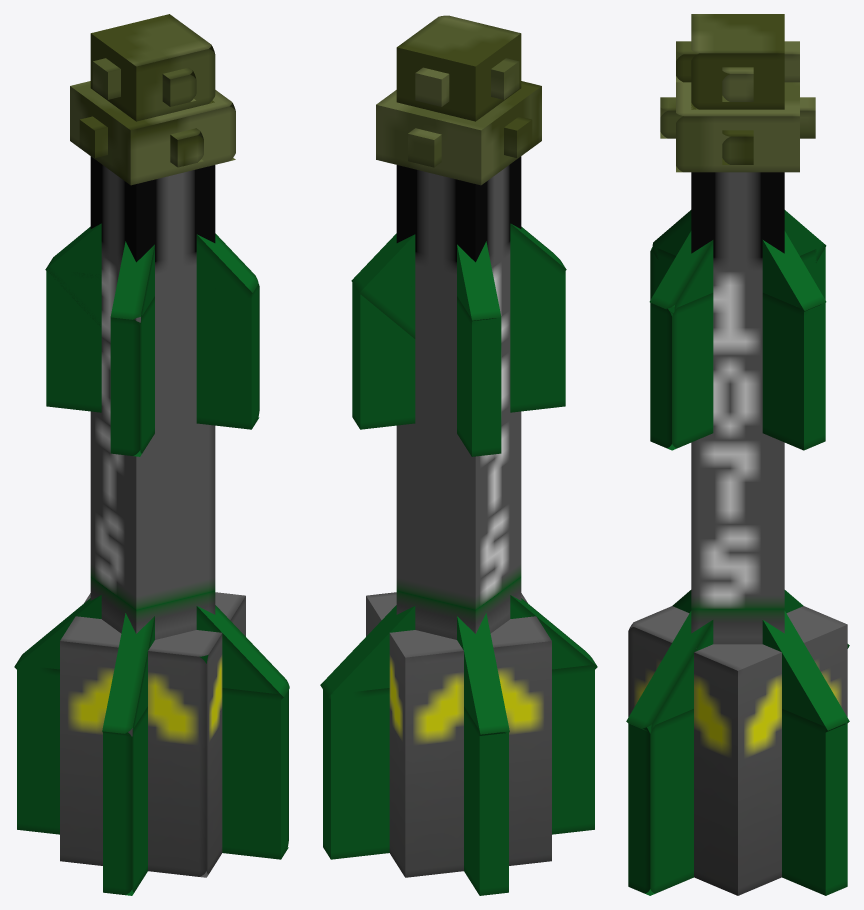
Rendered from missile_shrapnel.obj.
The picture shows the model from 3 angles, left to right: view 1: azimuth 30°, elevation 25°; view 2: azimuth 150°, elevation 25°; view 3: azimuth 270°, elevation 25°; orthographic projection. The views are drawn at different scales.
Parts seen in each view (by area): view 1: MAIN_MISSILE_MODULE, MOTOR_MODULE, WING_B_B_1, WING_T_B_2, WARHEAD_1, WARHEAD_2, WING_B_A_1, WING_T_B_1, WING_T_A_2, WING_B_B_2, WING_B_A_2, WING_T_A_1 (+4 smaller); view 2: MAIN_MISSILE_MODULE, MOTOR_MODULE, WING_B_A_1, WING_T_A_2, WARHEAD_1, WARHEAD_2, WING_T_A_1, WING_B_B_1, WING_T_B_2, WING_B_A_2, WING_B_B_2, WING_T_B_1 (+4 smaller); view 3: MAIN_MISSILE_MODULE, MOTOR_MODULE, WING_B_A_1, WING_B_B_1, WING_T_A_2, WING_T_B_2, WARHEAD_2, WARHEAD_1, WING_B_B_2, WING_B_A_2, WING_T_B_1, WING_T_A_1 (+4 smaller).
Boxes of the visible parts, x1=… form: MAIN_MISSILE_MODULE: x1=90, y1=156, x2=215, y2=639; MOTOR_MODULE: x1=60, y1=592, x2=245, y2=877; WING_B_B_1: x1=17, y1=664, x2=288, y2=859; WING_T_B_2: x1=46, y1=269, x2=259, y2=429; WARHEAD_1: x1=70, y1=81, x2=235, y2=185; WARHEAD_2: x1=90, y1=14, x2=215, y2=121; WING_B_A_1: x1=103, y1=706, x2=147, y2=895; WING_T_B_1: x1=45, y1=223, x2=258, y2=338; WING_T_A_2: x1=110, y1=296, x2=154, y2=456; WING_B_B_2: x1=14, y1=595, x2=289, y2=699; WING_B_A_2: x1=102, y1=613, x2=154, y2=735; WING_T_A_1: x1=110, y1=241, x2=154, y2=325; MAIN_MISSILE_MODULE: x1=396, y1=156, x2=521, y2=639; MOTOR_MODULE: x1=366, y1=592, x2=551, y2=877; WING_B_A_1: x1=323, y1=664, x2=594, y2=859; WING_T_A_2: x1=352, y1=271, x2=565, y2=429; WARHEAD_1: x1=376, y1=81, x2=541, y2=185; WARHEAD_2: x1=396, y1=15, x2=521, y2=121; WING_T_A_1: x1=351, y1=223, x2=566, y2=338; WING_B_B_1: x1=464, y1=706, x2=508, y2=895; WING_T_B_2: x1=457, y1=296, x2=501, y2=456; WING_B_A_2: x1=320, y1=595, x2=597, y2=699; WING_B_B_2: x1=457, y1=613, x2=509, y2=735; WING_T_B_1: x1=457, y1=241, x2=501, y2=321; MAIN_MISSILE_MODULE: x1=691, y1=172, x2=784, y2=644; MOTOR_MODULE: x1=628, y1=606, x2=847, y2=895; WING_B_A_1: x1=782, y1=709, x2=847, y2=895; WING_B_B_1: x1=628, y1=709, x2=693, y2=895; WING_T_A_2: x1=650, y1=247, x2=825, y2=450; WING_T_B_2: x1=650, y1=248, x2=825, y2=450; WARHEAD_2: x1=691, y1=14, x2=784, y2=109; WARHEAD_1: x1=676, y1=82, x2=799, y2=172; WING_B_B_2: x1=626, y1=590, x2=849, y2=733; WING_B_A_2: x1=672, y1=590, x2=849, y2=732; WING_T_B_1: x1=649, y1=210, x2=826, y2=316; WING_T_A_1: x1=652, y1=210, x2=826, y2=311.
Bounding box in the file's own units: 0.9009 × 3.63 × 0.9009.
